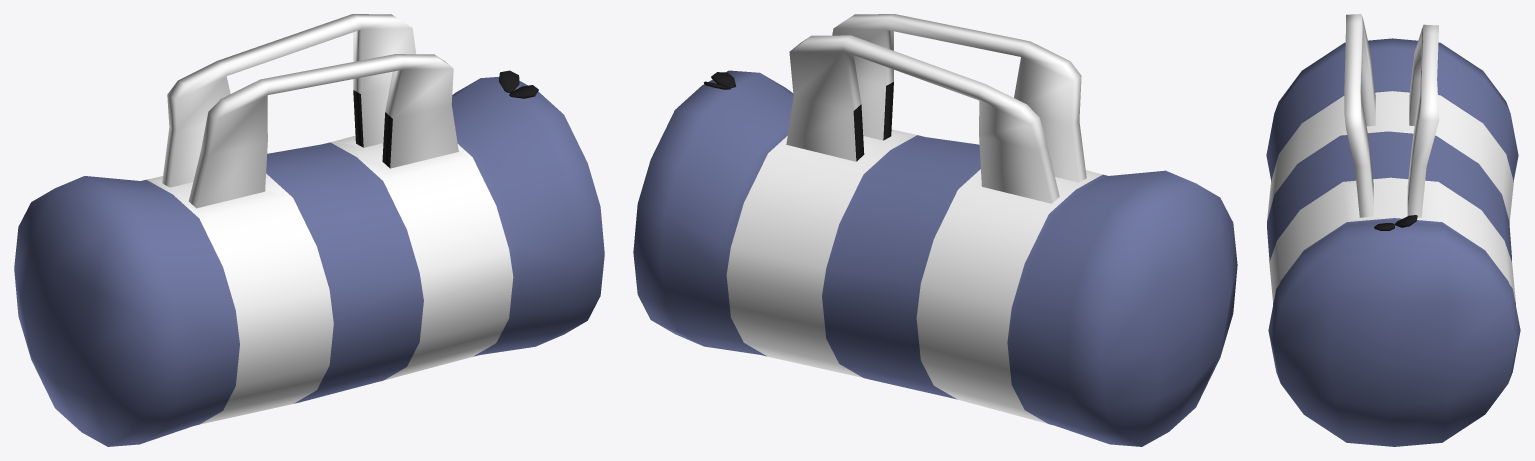
The model's file is Bag.FBX.
3 renders of one model, left to right at view 1: azimuth 30°, elevation 25°; view 2: azimuth 150°, elevation 25°; view 3: azimuth 270°, elevation 25°, orthographic. The views are drawn at different scales.
Parts seen in each view (by area): view 1: Bag; view 2: Bag; view 3: Bag.
Boxes of the visible parts, x1,y1,x2,y2 form: Bag: (14,14,604,446); Bag: (633,14,1237,446); Bag: (1266,14,1520,446).
Size of the model in its own units: 278 by 167 by 128.
